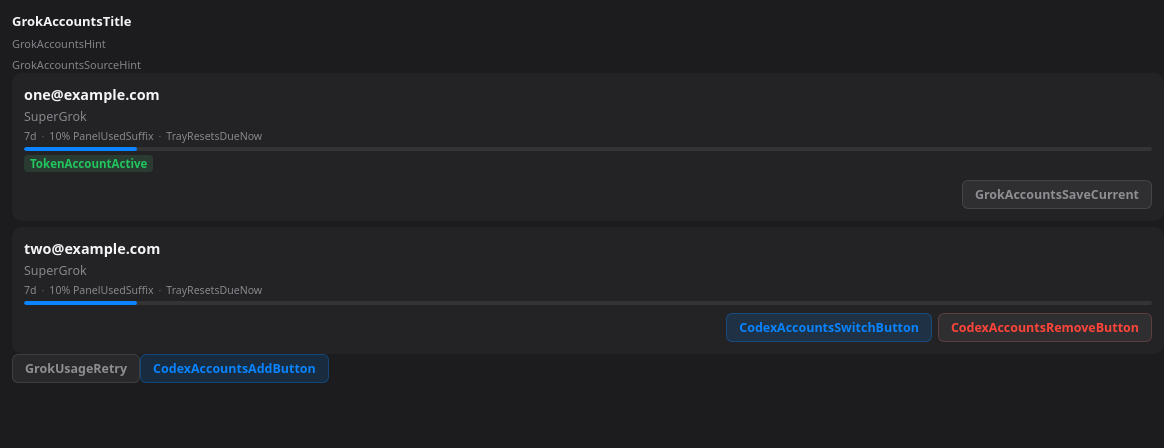
Scenario: GrokAccountsSection › shows a switch error without claiming success
expect the text "two@example.com" is shown: met, box [24,239,160,258]
Click the button "CodexAccountsSwitchButton" at (829, 327), box [726,313,932,342]
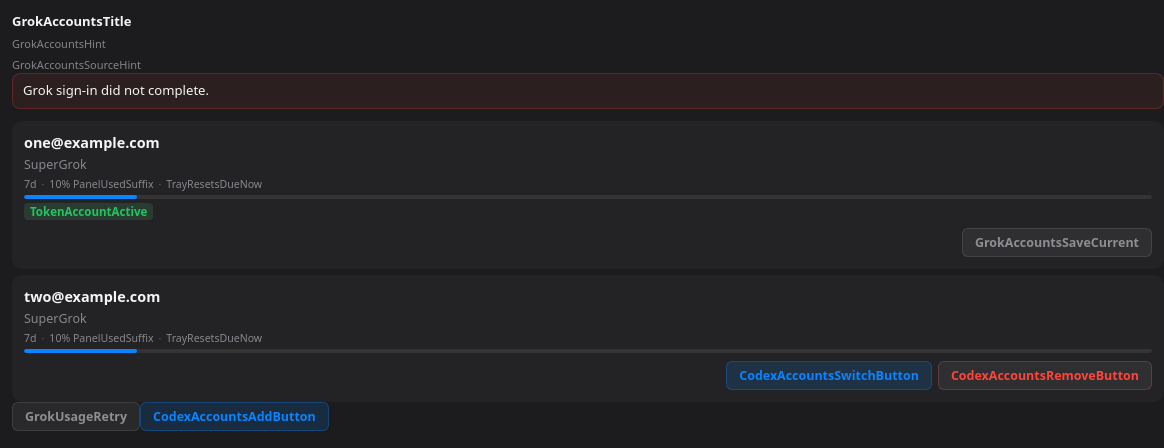
expect the message reads "Grok sign-in did not complete.": met, box [23,81,209,99]
